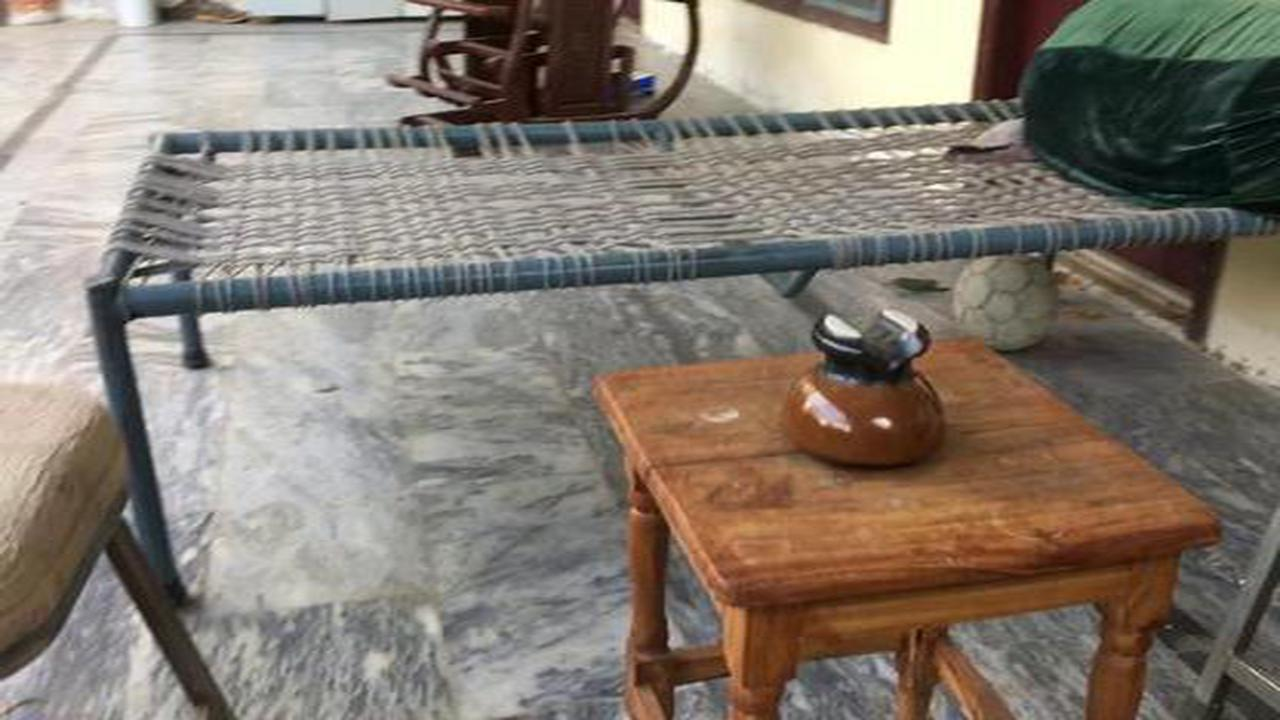insulator_pin: (764, 291, 982, 478)
